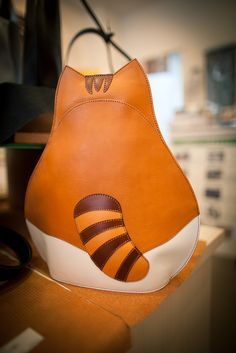cuero: (24, 58, 200, 294)
